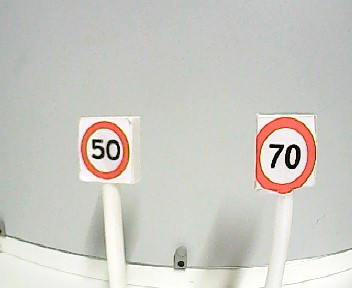50-bord: (82, 120, 130, 179)
70-bord: (255, 117, 317, 192)
